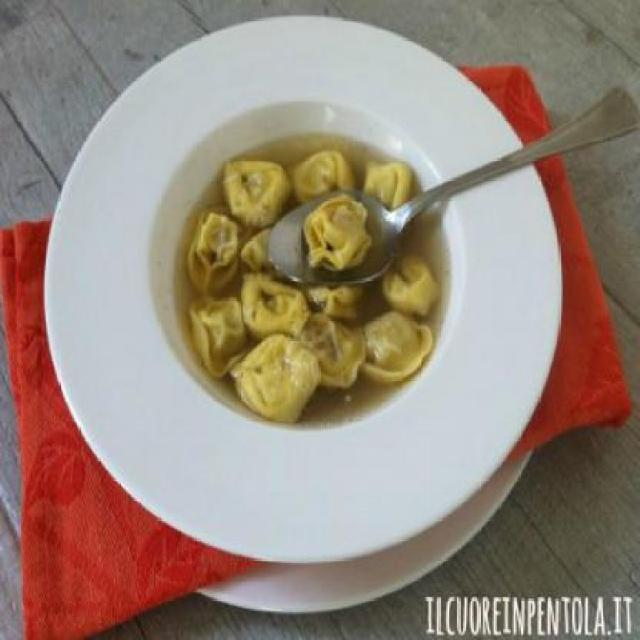Tortellini in broth: (168, 142, 460, 418)
